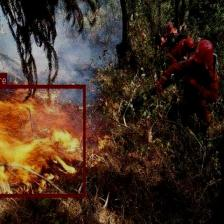fire: (0, 84, 85, 196)
